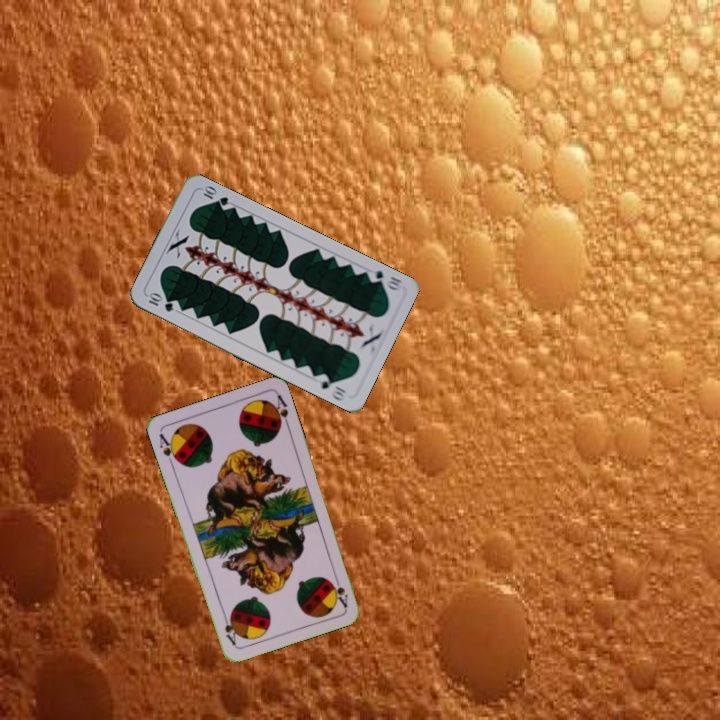G10: (363, 265, 404, 293), (144, 289, 176, 315)
SA: (155, 429, 182, 469), (328, 571, 350, 610)
